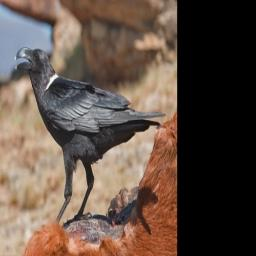Crow: (14, 43, 167, 228)
